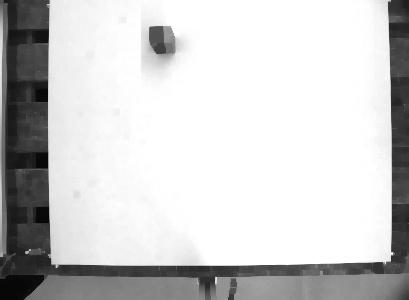b3: (146, 22, 178, 56)
